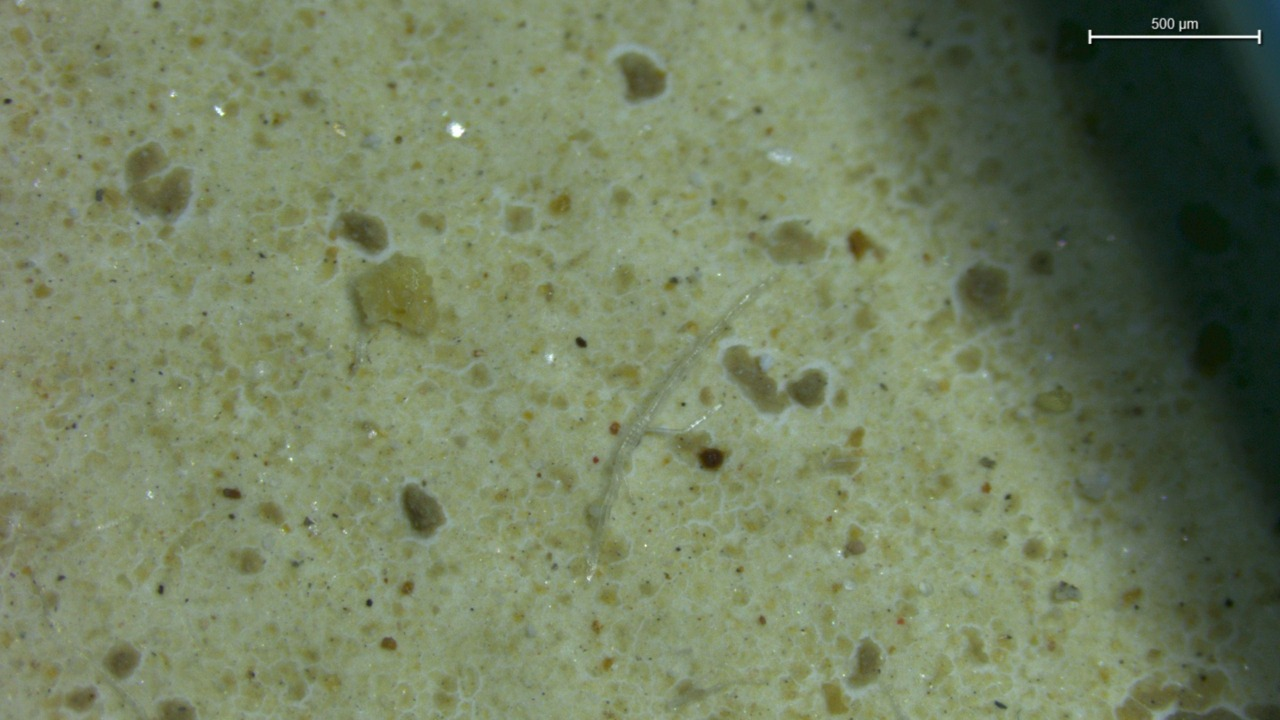microplastic_fragment: (355, 253, 438, 336)
